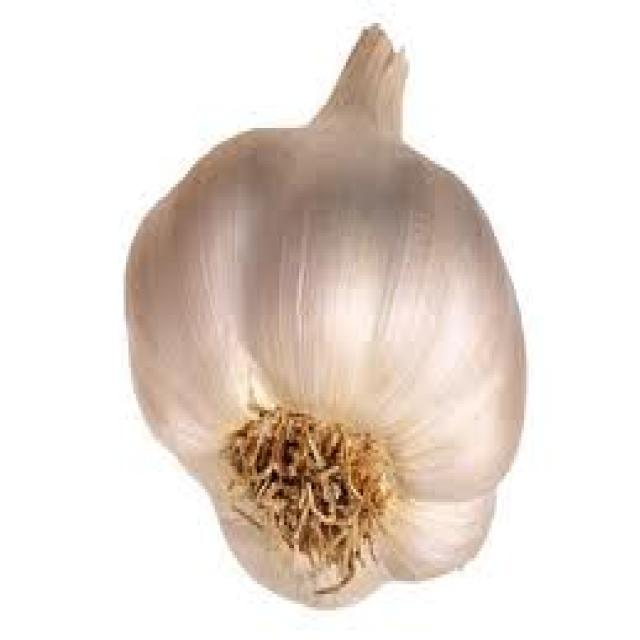garlic: (104, 10, 548, 607)
